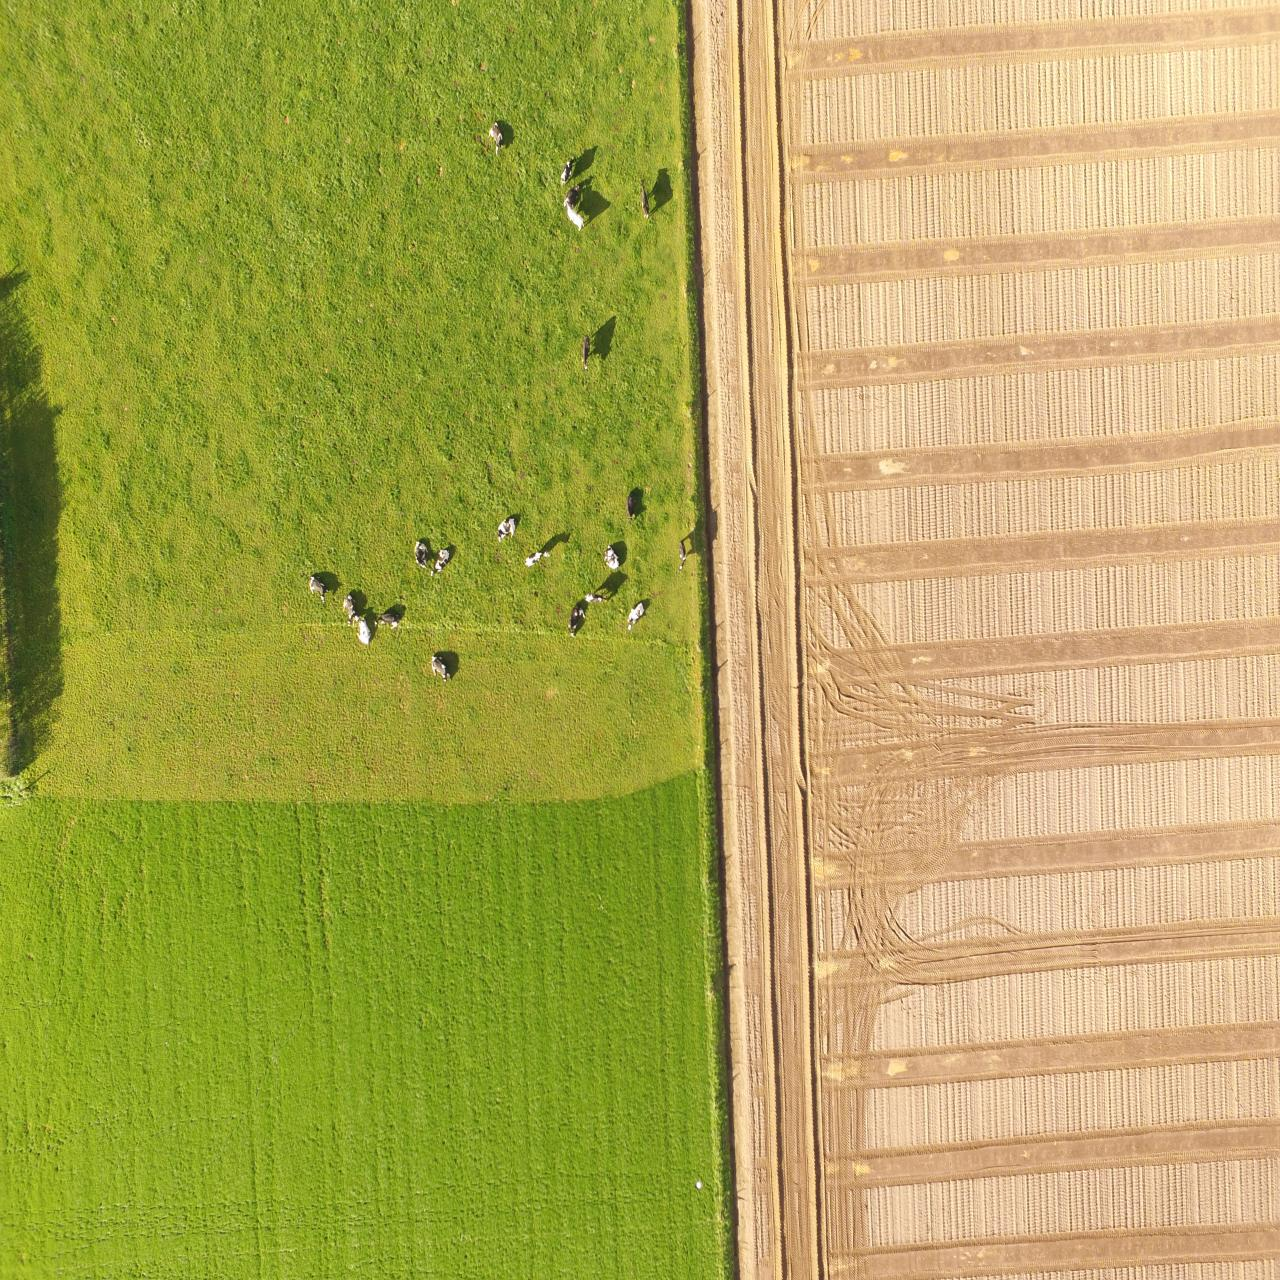cow: (429, 655, 454, 686), (495, 515, 518, 542), (430, 547, 452, 576), (568, 602, 585, 638), (565, 200, 586, 227), (625, 600, 644, 629), (559, 154, 577, 184), (307, 576, 327, 601), (524, 550, 551, 568), (414, 539, 430, 570), (488, 118, 502, 152), (602, 543, 620, 568), (343, 591, 356, 626), (639, 179, 649, 219), (375, 613, 401, 628), (563, 184, 580, 206), (356, 615, 369, 642), (676, 539, 687, 571), (625, 489, 635, 519), (581, 334, 590, 370), (584, 593, 607, 604)
